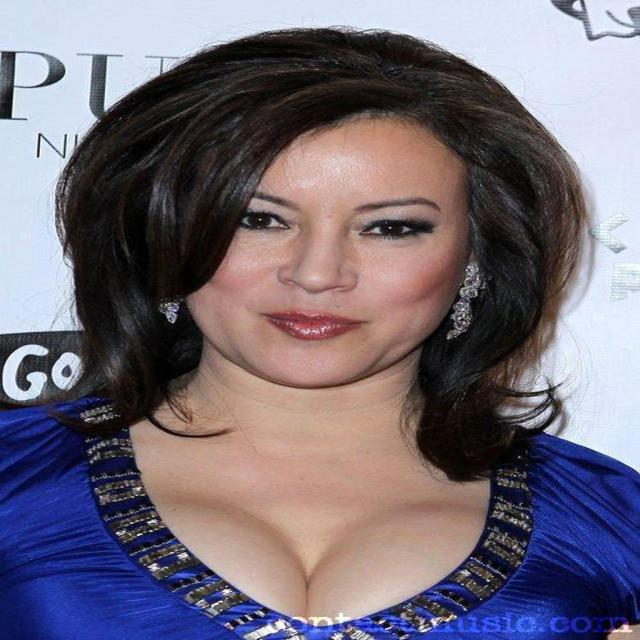nomask: (192, 117, 472, 388)
